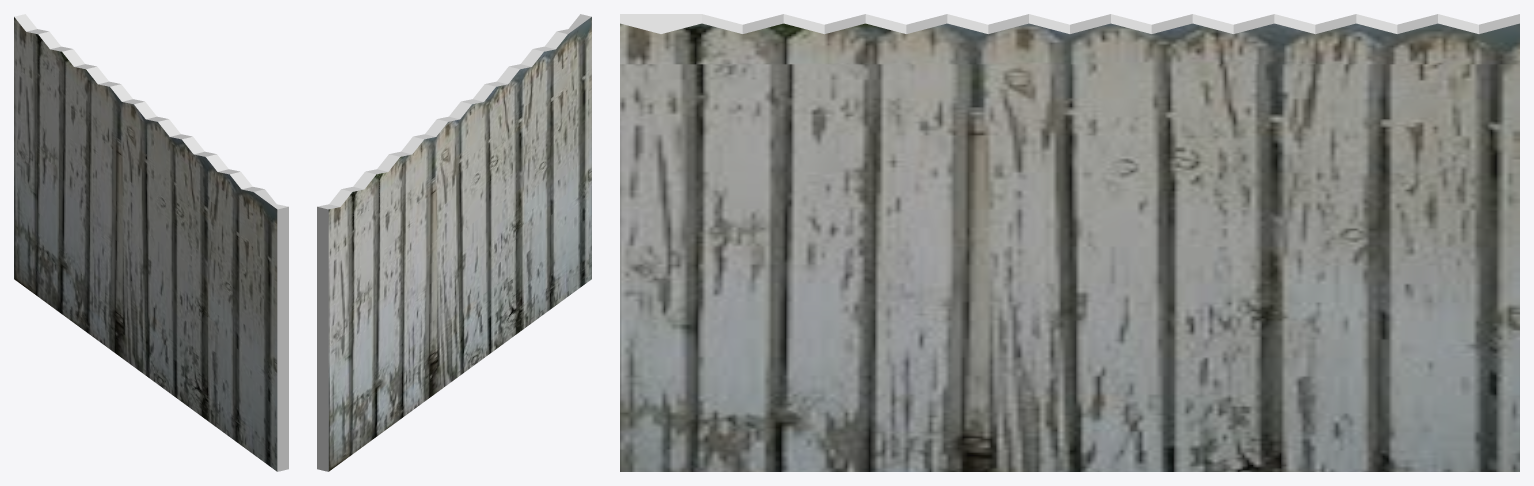
Rendered from Aita.fbx.
3 renders of one model, left to right at view 1: azimuth 30°, elevation 25°; view 2: azimuth 150°, elevation 25°; view 3: azimuth 270°, elevation 25°, orthographic. The views are drawn at different scales.
Visible parts, largest first — view 1: Cube; view 2: Cube; view 3: Cube.
Boxes of the visible parts, x1=… form: Cube: x1=14, y1=14, x2=288, y2=471; Cube: x1=317, y1=14, x2=591, y2=471; Cube: x1=620, y1=14, x2=1519, y2=471.
Bounding box in the file's own units: 5 × 110 × 200.
